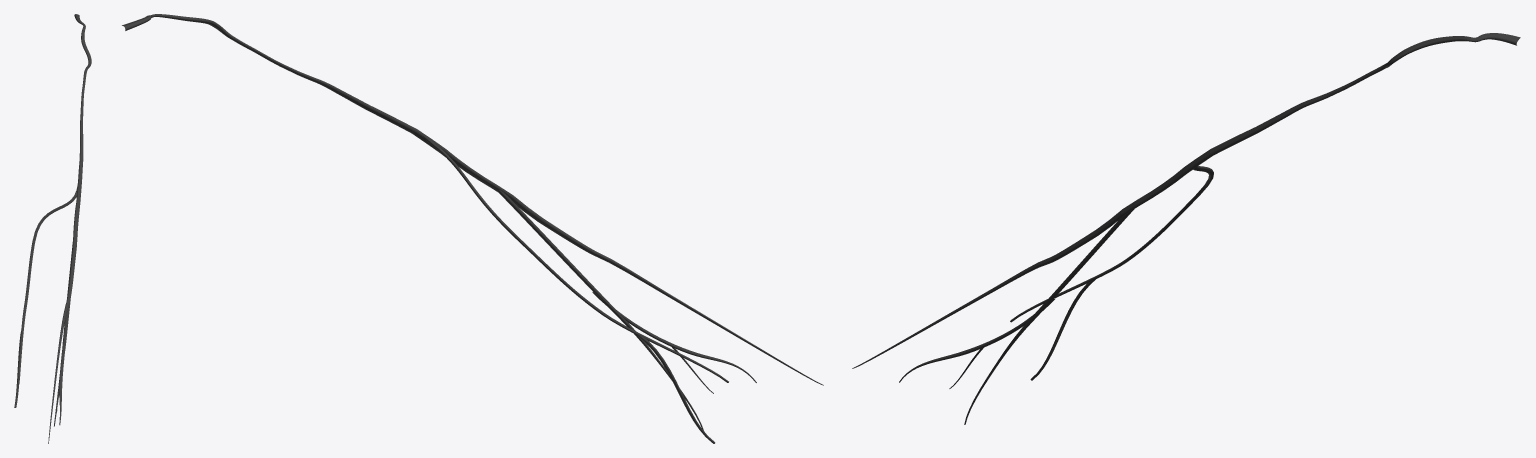
Rendered from N_5_trigeminus_ophthalmic_nasociliary_ethmoidal.glb.
The picture shows the model from 3 angles, left to right: view 1: azimuth 30°, elevation 25°; view 2: azimuth 150°, elevation 25°; view 3: azimuth 270°, elevation 25°; orthographic projection. The views are drawn at different scales.
Visible parts, largest first — view 1: N_5_trigeminus_ophthalmic_nasociliary_ethmoidal; view 2: N_5_trigeminus_ophthalmic_nasociliary_ethmoidal; view 3: N_5_trigeminus_ophthalmic_nasociliary_ethmoidal.
Part boxes in pixels (x1,y1,x2,y2): N_5_trigeminus_ophthalmic_nasociliary_ethmoidal: [14, 14, 91, 443]; N_5_trigeminus_ophthalmic_nasociliary_ethmoidal: [122, 14, 823, 443]; N_5_trigeminus_ophthalmic_nasociliary_ethmoidal: [852, 33, 1520, 424].
Bounding box in the file's own units: 0.0245 × 0.0322 × 0.0359.
1 material, 1 textured.
